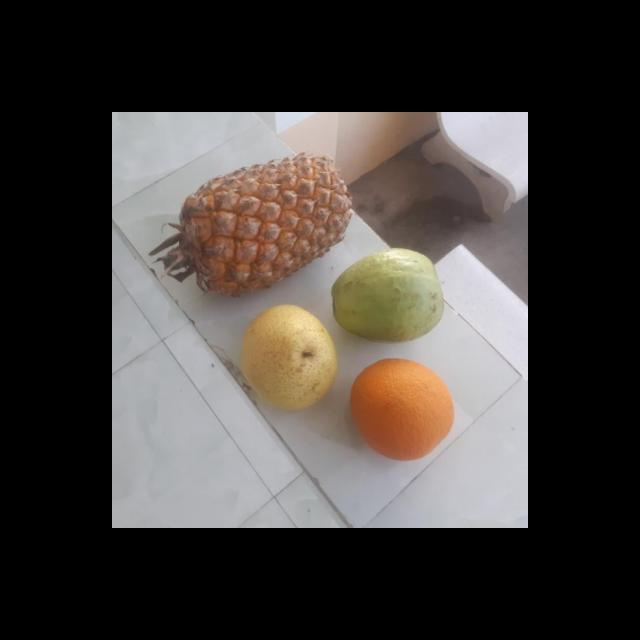guava: (330, 242, 441, 340)
orange: (344, 356, 456, 462)
pear: (236, 306, 336, 406)
pineapple: (170, 158, 346, 298)
